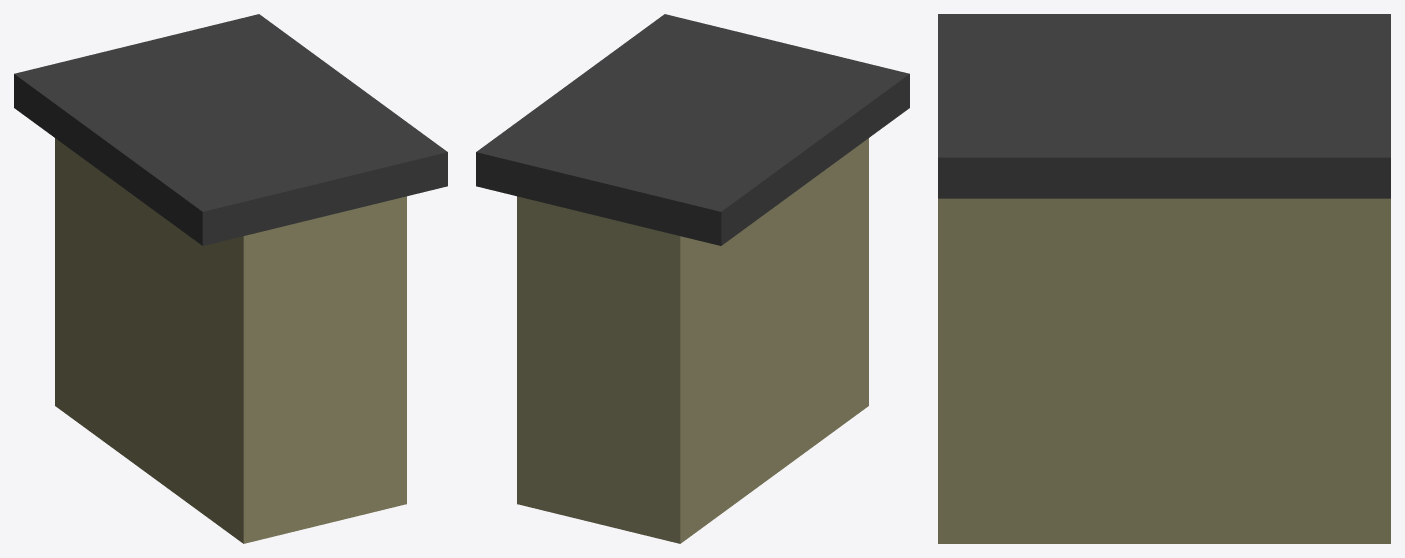
File: Bench Straight.fbx
The picture shows the model from 3 angles, left to right: view 1: azimuth 30°, elevation 25°; view 2: azimuth 150°, elevation 25°; view 3: azimuth 270°, elevation 25°; orthographic projection. The views are drawn at different scales.
Visible parts, largest first — view 1: Bench Straight; view 2: Bench Straight; view 3: Bench Straight.
Part boxes in pixels (box(x1,y1,x2,y2)): Bench Straight: box(14, 14, 447, 543); Bench Straight: box(476, 14, 909, 543); Bench Straight: box(938, 14, 1390, 543).
Bounding box in the file's own units: 300 × 400 × 400.
